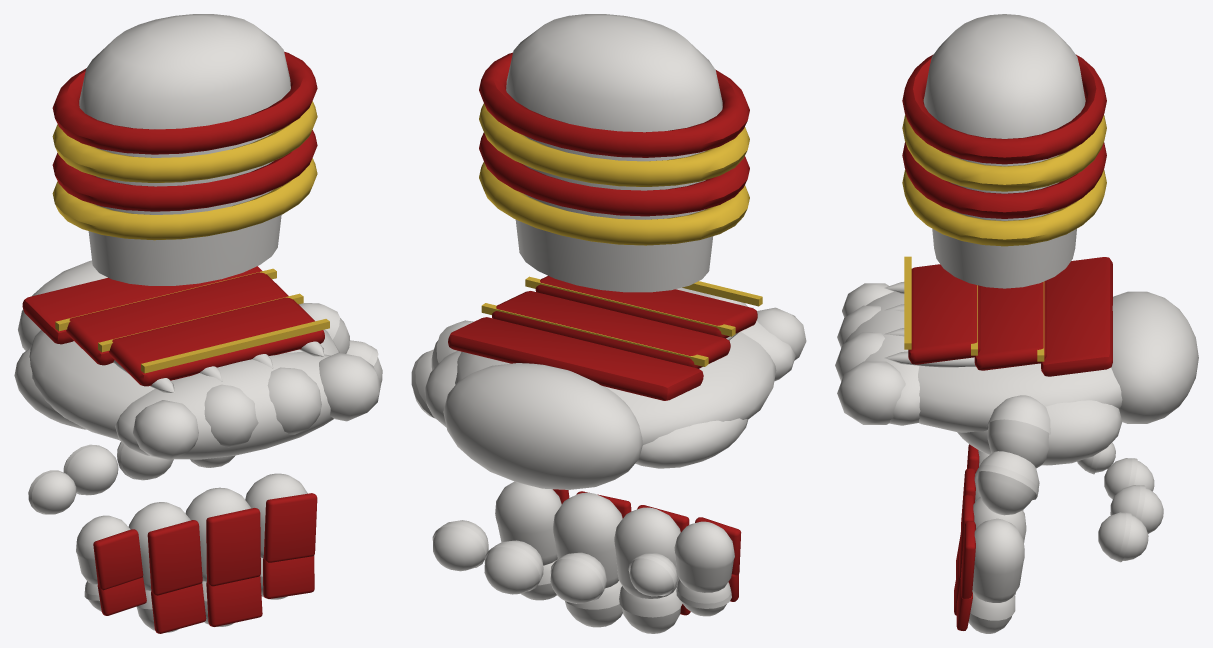
File: Kioto_Mano.fbx
3 renders of one model, left to right at view 1: azimuth 30°, elevation 25°; view 2: azimuth 150°, elevation 25°; view 3: azimuth 270°, elevation 25°, orthographic. The views are drawn at different scales.
Visible parts, largest first — view 1: Antebrazo, Palma, Dedo_Medio_1, Dedo_Anular_1, Dedo_Indice_1, Dedo_Menique_1, Dedo_Anular_2, Dedo_Medio_2, Dedo_Anular_3, Dedo_Indice_2, Dedo_Menique_3, Dedo_Menique_2 (+3 smaller); view 2: Antebrazo, Palma, Dedo_Medio_1, Dedo_Menique_1, Dedo_Indice_1, Dedo_Anular_1, Dedo_Medio_3, Dedo_Anular_3, Dedo_Indice_3, Dedo_Anular_2, Dedo_Menique_3, Dedo_Medio_2 (+4 smaller); view 3: Palma, Antebrazo, Dedo_Indice_1, Pulgar_1, Pulgar_2, Dedo_Indice_3, Dedo_Indice_2, Dedo_Medio_3, Dedo_Anular_3, Dedo_Medio_1, Dedo_Menique_3.
Part boxes in pixels (x1,y1,x2,y2): Antebrazo: (52,14,317,285); Palma: (14,260,381,459); Dedo_Medio_1: (185,487,260,586); Dedo_Anular_1: (128,502,202,595); Dedo_Indice_1: (245,473,317,562); Dedo_Menique_1: (76,515,143,590); Dedo_Anular_2: (136,583,206,633); Dedo_Medio_2: (202,576,262,626); Dedo_Anular_3: (63,444,118,495); Dedo_Indice_2: (260,556,314,599); Dedo_Menique_3: (28,470,76,514); Dedo_Menique_2: (84,577,146,615); Antebrazo: (479,14,749,292); Palma: (424,275,806,489); Dedo_Medio_1: (553,491,631,588); Dedo_Menique_1: (674,517,741,592); Dedo_Indice_1: (495,481,569,565); Dedo_Anular_1: (614,505,689,598); Dedo_Medio_3: (484,540,543,594); Dedo_Anular_3: (550,552,606,603); Dedo_Indice_3: (432,520,488,571); Dedo_Anular_2: (619,586,690,633); Dedo_Menique_3: (628,553,677,596); Dedo_Medio_2: (565,580,622,627); Palma: (835,256,1198,465); Antebrazo: (902,14,1106,288); Dedo_Indice_1: (961,518,1024,602); Pulgar_1: (986,395,1050,468); Pulgar_2: (975,451,1039,515); Dedo_Indice_3: (1098,512,1148,562); Dedo_Indice_2: (956,581,1015,633); Dedo_Medio_3: (1110,485,1163,533); Dedo_Anular_3: (1104,458,1154,499); Dedo_Medio_1: (959,495,1026,578); Dedo_Menique_3: (1077,442,1115,474).
Size of the model in its own units: 0.6049 by 1.05 by 0.6031.
